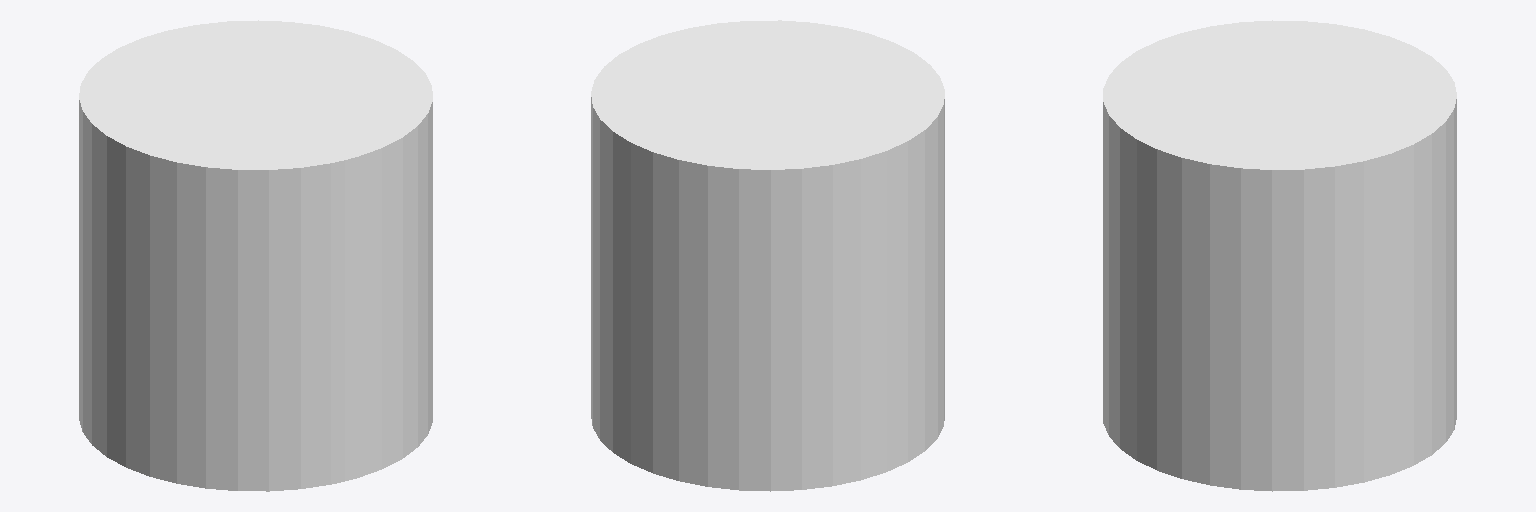
The robot description file, URDF, robot "square-cylinder":
<?xml version="1.0" encoding="utf-8"?>
<!-- This URDF was automatically created by SolidWorks to URDF Exporter! Originally created by [author] ([email redacted]) 
     Commit Version: 1.5.1-0-g916b5db  Build Version: 1.5.7152.31018
     For more information, please see http://wiki.ros.org/sw_urdf_exporter -->
<robot
  name="square-cylinder">
  <link
    name="cylinder">
    <inertial>
      <origin
        xyz="0 2.88085794227797E-18 0.025"
        rpy="0 0 0" />
      <mass
        value="0.10014" />
      <inertia
        ixx="3.6509E-05"
        ixy="7.40580692474083E-54"
        ixz="-1.2095E-37"
        iyy="3.6509E-05"
        iyz="-3.19377337076876E-22"
        izz="3.1293E-05" />
    </inertial>
    <visual>
      <origin
        xyz="0 0 0"
        rpy="1.5707963267949 0 0" />
      <geometry>
        <mesh
          filename="package://cylinder/meshes/cylinder.STL" />
      </geometry>
      <material
        name="">
        <color
          rgba="1 1 1 1" />
        <texture
          filename="package://cylinder/textures/" />
      </material>
    </visual>
    <collision>
      <origin
        xyz="0 0 0"
        rpy="1.5707963267949 0 0" />
      <geometry>
        <mesh
          filename="package://cylinder/meshes/cylinder.STL" />
      </geometry>
    </collision>
  </link>
</robot>

--- What the picture shows (computed from the rendered views, not written in the file) ---
3 views of the same robot in one strip: view 1: azimuth 30°, elevation 25°; view 2: azimuth 150°, elevation 25°; view 3: azimuth 270°, elevation 25° (orthographic).
Model square-cylinder with 1 links and 0 joints (none), rooted at cylinder, posed every joint at zero.
Links seen in each view (by area): view 1: cylinder; view 2: cylinder; view 3: cylinder.
Boxes of the visible links, x1,y1,x2,y2 form: cylinder: [79, 20, 432, 491]; cylinder: [591, 20, 944, 491]; cylinder: [1103, 20, 1456, 491].
Size in the robot's own frame: 0.0499 by 0.05 by 0.05 metres.
1 mesh visuals loaded from 1 distinct referenced files (1 binary STL).